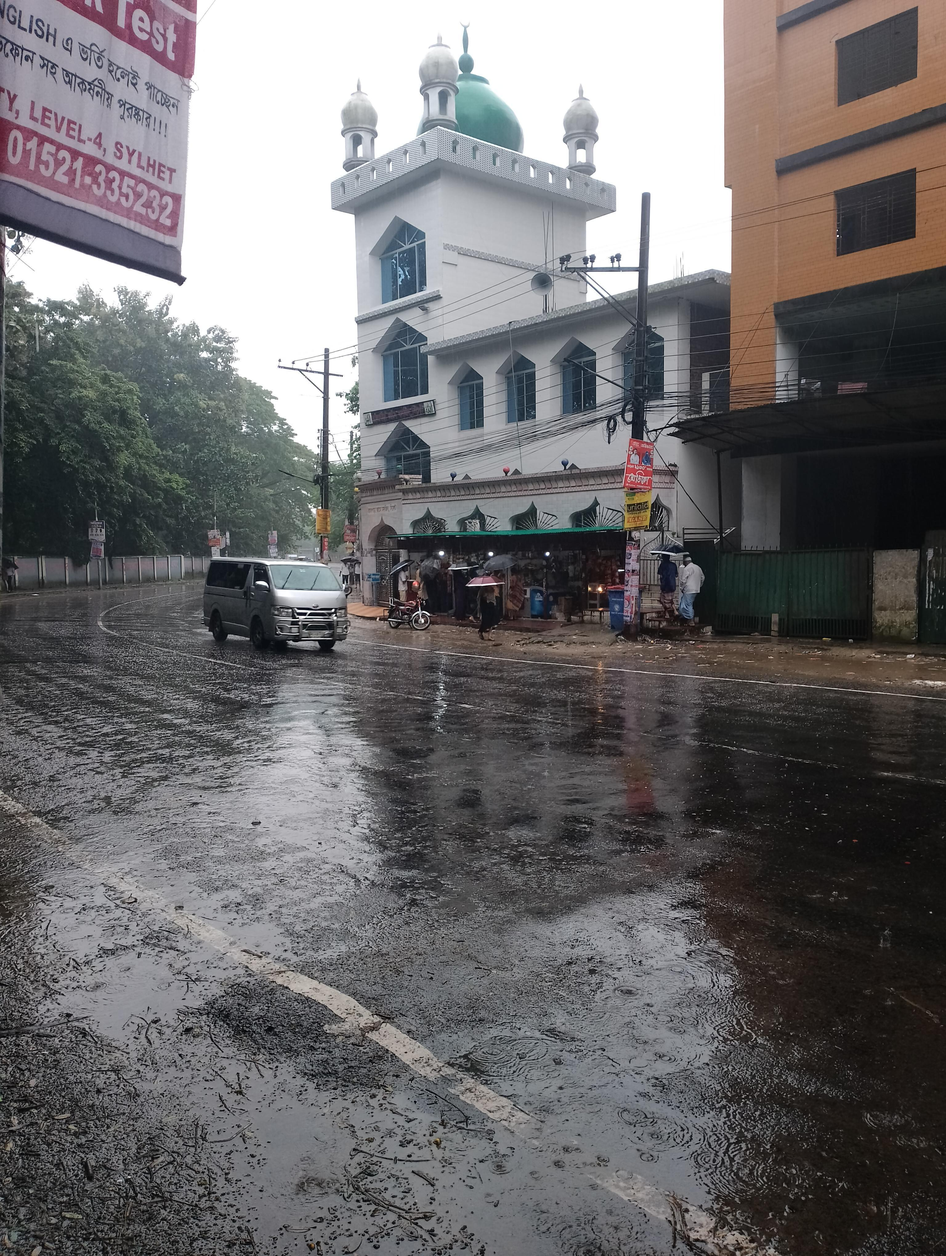Bike: (379, 574, 442, 651)
Car: (184, 543, 359, 668)
